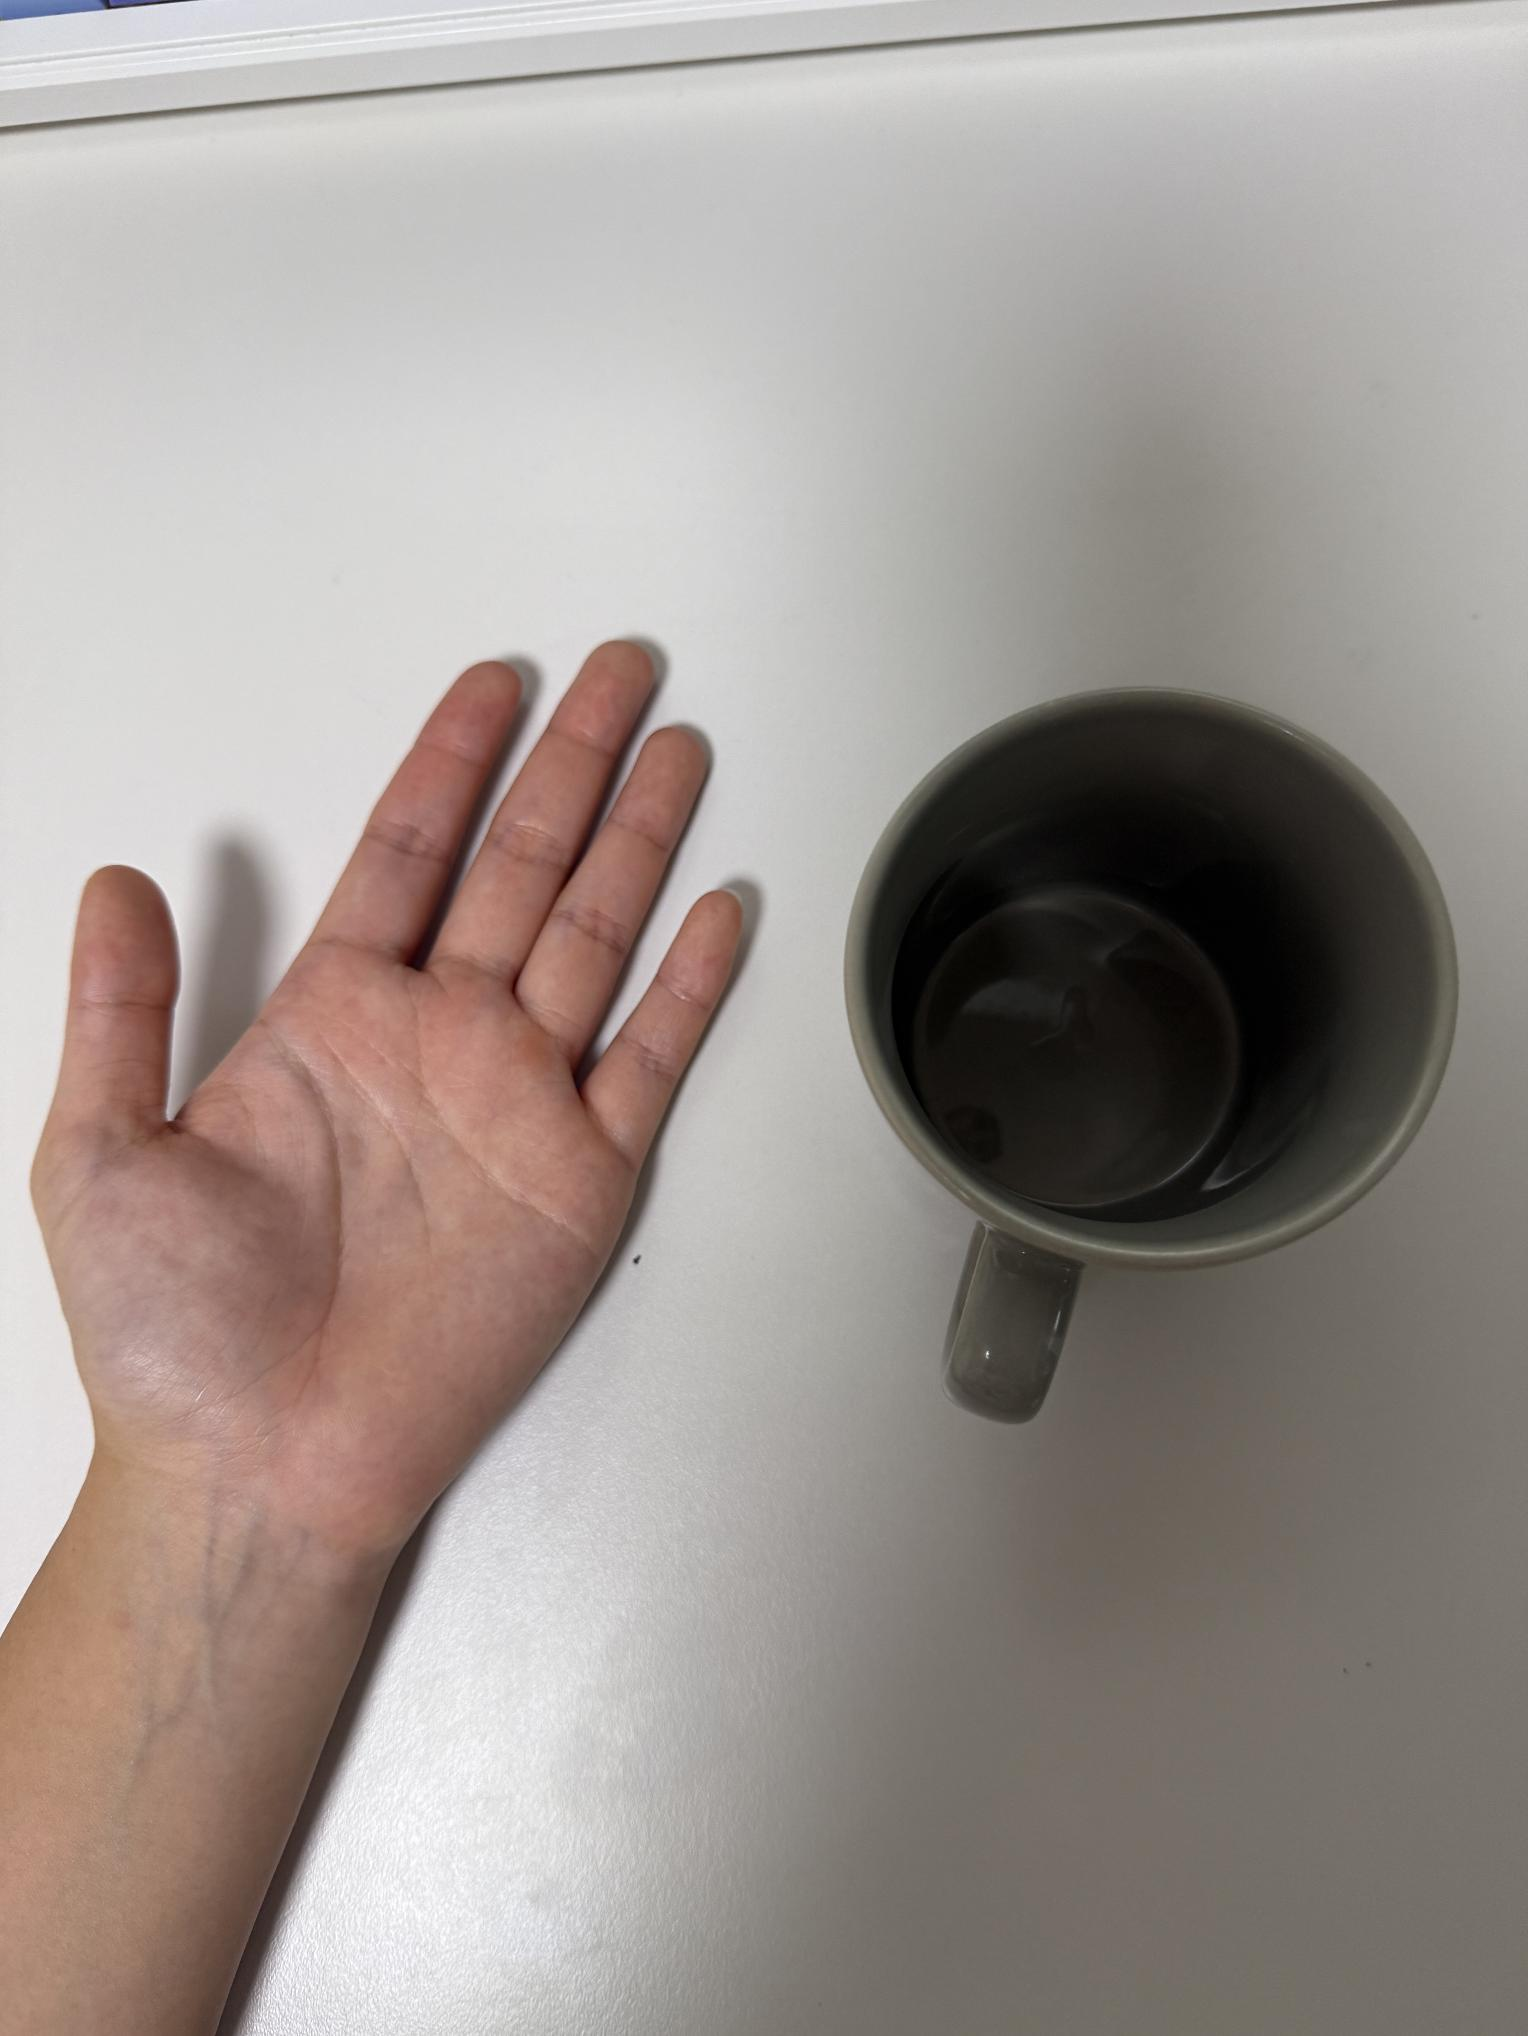open: (24, 598, 764, 1630)
